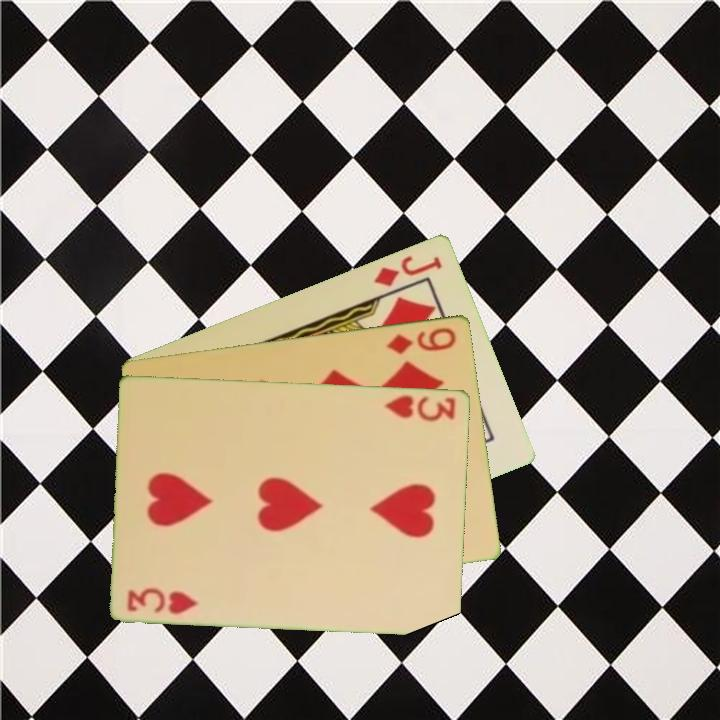3h: (124, 584, 202, 617), (382, 391, 459, 424)
9d: (383, 323, 459, 357)
Jd: (371, 251, 445, 289)
